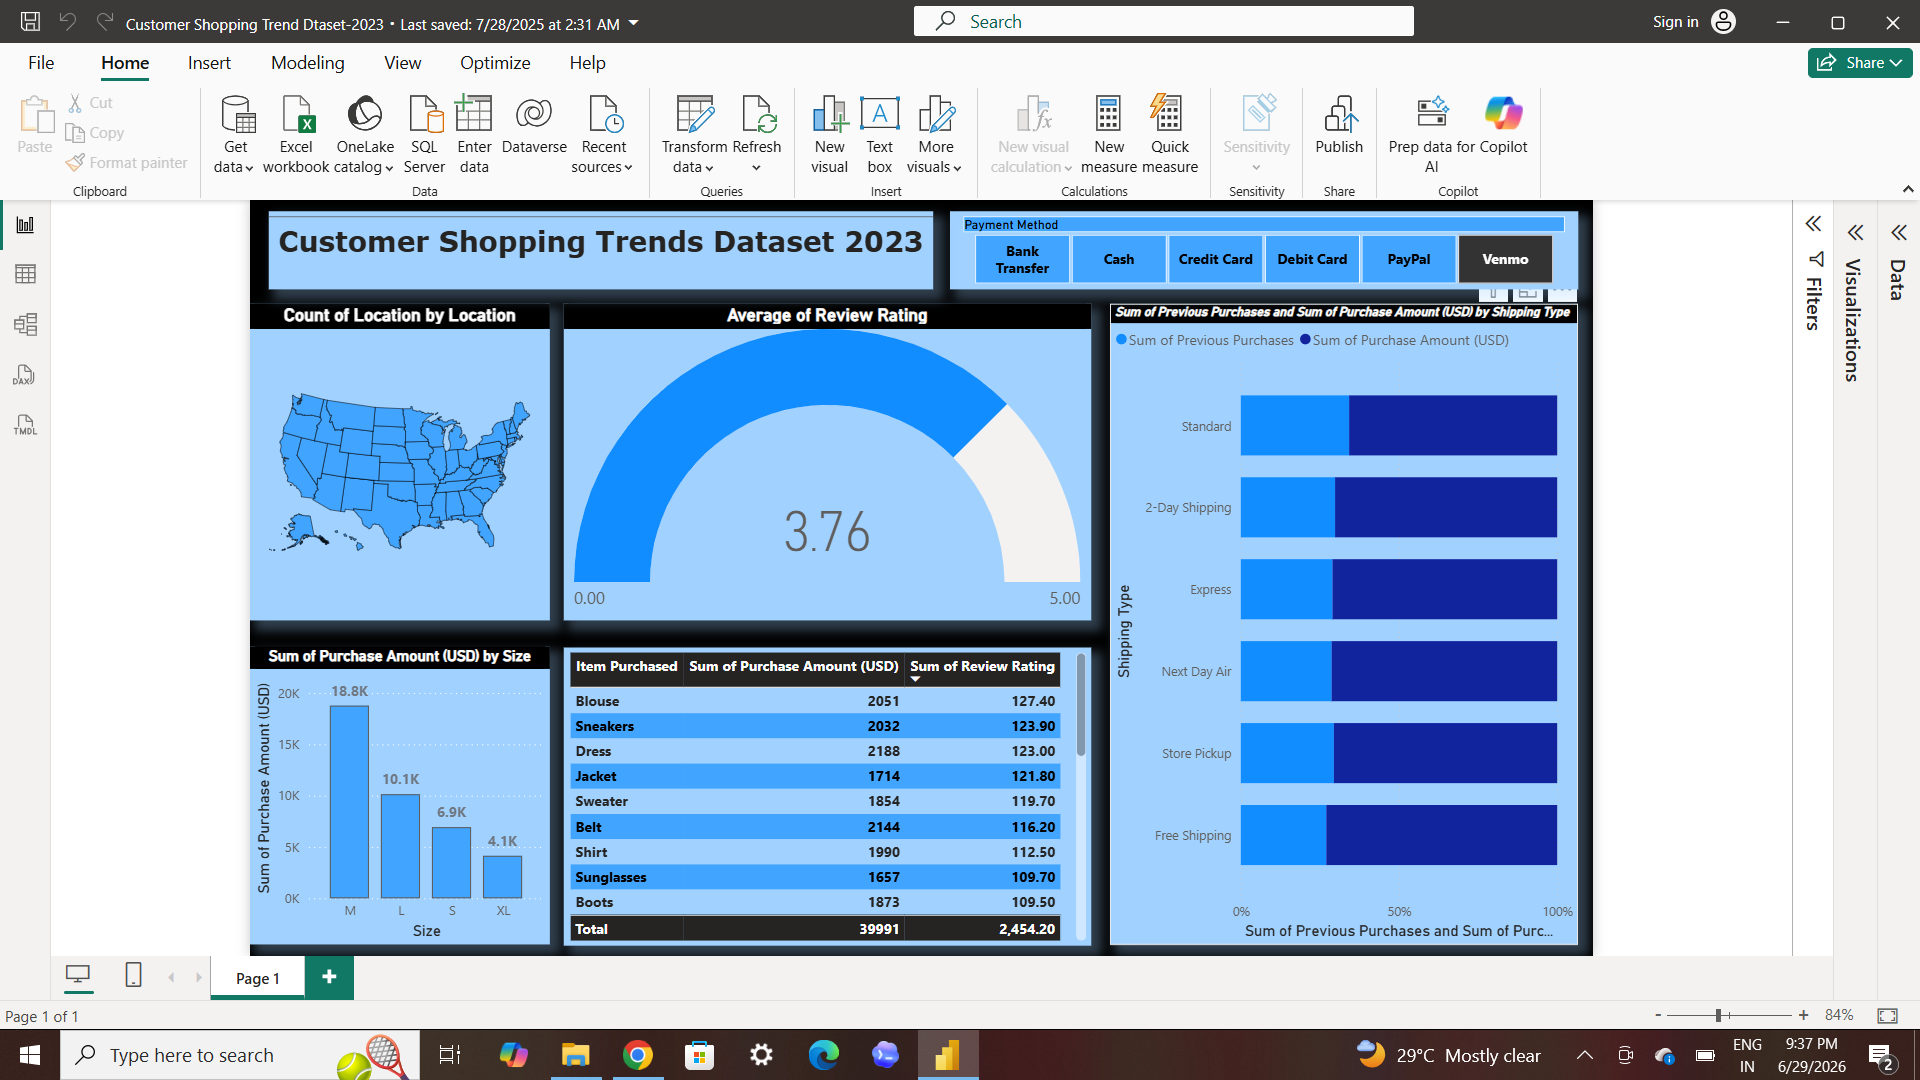

What the dashboard file says about the page in this screenshot:
{"tool":"powerbi","page":{"name":"Page 1","canvas":[1280,720],"ordinal":0},"visuals":[{"type":"shapeMap","fields":{"Category":["shopping_trends.Location"],"Value":["CountNonNull(shopping_trends.Location)"]},"box":[0,98.8,285.4,301.9],"z":0},{"type":"clusteredColumnChart","fields":{"Category":["shopping_trends.Size"],"Y":["Sum(shopping_trends.Purchase Amount (USD))"]},"box":[0,425.4,285.4,284],"z":1000},{"type":"tableEx","fields":{"Values":["shopping_trends.Item Purchased","Sum(shopping_trends.Purchase Amount (USD))","Sum(shopping_trends.Review Rating)"]},"box":[299.1,426.8,502.2,284],"z":2000},{"type":"hundredPercentStackedBarChart","fields":{"Category":["shopping_trends.Shipping Type"],"Y":["Sum(shopping_trends.Previous Purchases)","Sum(shopping_trends.Purchase Amount (USD))"]},"box":[819.2,98.8,446,610.6],"z":3000},{"type":"slicer","fields":{"Values":["shopping_trends.Payment Method"]},"box":[666.9,11,598.3,74.1],"z":4000},{"type":"gauge","fields":{"Y":["Avg(shopping_trends.Review Rating)"]},"box":[299.1,98.8,502.2,301.9],"z":5000},{"type":"textbox","box":[17.8,11,632.6,74.1],"z":6000}]}

Visuals, with their boxes on the page's 1280x720 design canvas (x1, y1, x2, y2). These are canvas units, not pixel positions in the 1920x1080 screenshot, which may show the page scaled, cropped or inside an application window:
shapeMap - shopping_trends.Location x CountNonNull(shopping_trends.Location): {"x1": 0, "y1": 99, "x2": 285, "y2": 401}
clusteredColumnChart - shopping_trends.Size x Sum(shopping_trends.Purchase Amount (USD)): {"x1": 0, "y1": 425, "x2": 285, "y2": 709}
tableEx - shopping_trends.Item Purchased x Sum(shopping_trends.Purchase Amount (USD)): {"x1": 299, "y1": 427, "x2": 801, "y2": 711}
hundredPercentStackedBarChart - shopping_trends.Shipping Type x Sum(shopping_trends.Previous Purchases): {"x1": 819, "y1": 99, "x2": 1265, "y2": 709}
slicer - shopping_trends.Payment Method: {"x1": 667, "y1": 11, "x2": 1265, "y2": 85}
gauge - Avg(shopping_trends.Review Rating): {"x1": 299, "y1": 99, "x2": 801, "y2": 401}
textbox: {"x1": 18, "y1": 11, "x2": 650, "y2": 85}
